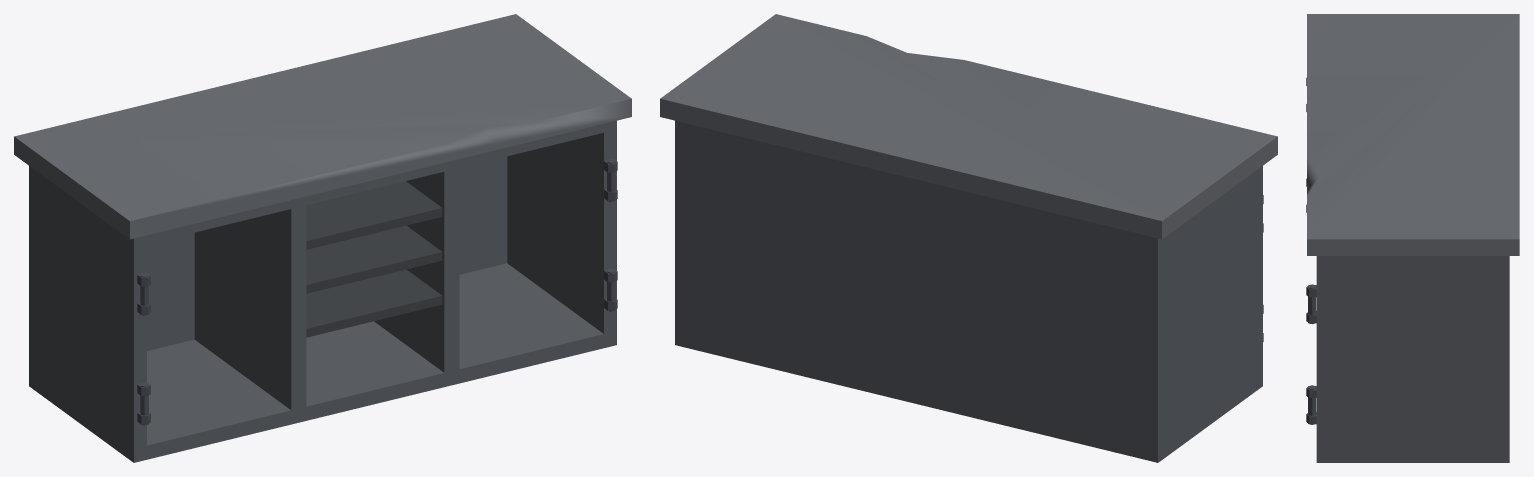
Rendered from SM_Prop_WorkBench_02.fbx.
The picture shows the model from 3 angles, left to right: view 1: azimuth 30°, elevation 25°; view 2: azimuth 150°, elevation 25°; view 3: azimuth 270°, elevation 25°; orthographic projection. The views are drawn at different scales.
Parts seen in each view (by area): view 1: SM_Prop_WorkBench_02; view 2: SM_Prop_WorkBench_02; view 3: SM_Prop_WorkBench_02.
Part boxes in pixels (x1,y1,x2,y2): SM_Prop_WorkBench_02: (14, 14, 631, 462); SM_Prop_WorkBench_02: (660, 14, 1277, 462); SM_Prop_WorkBench_02: (1306, 14, 1519, 462).
Bounding box in the file's own units: 215 × 101 × 85.94.
